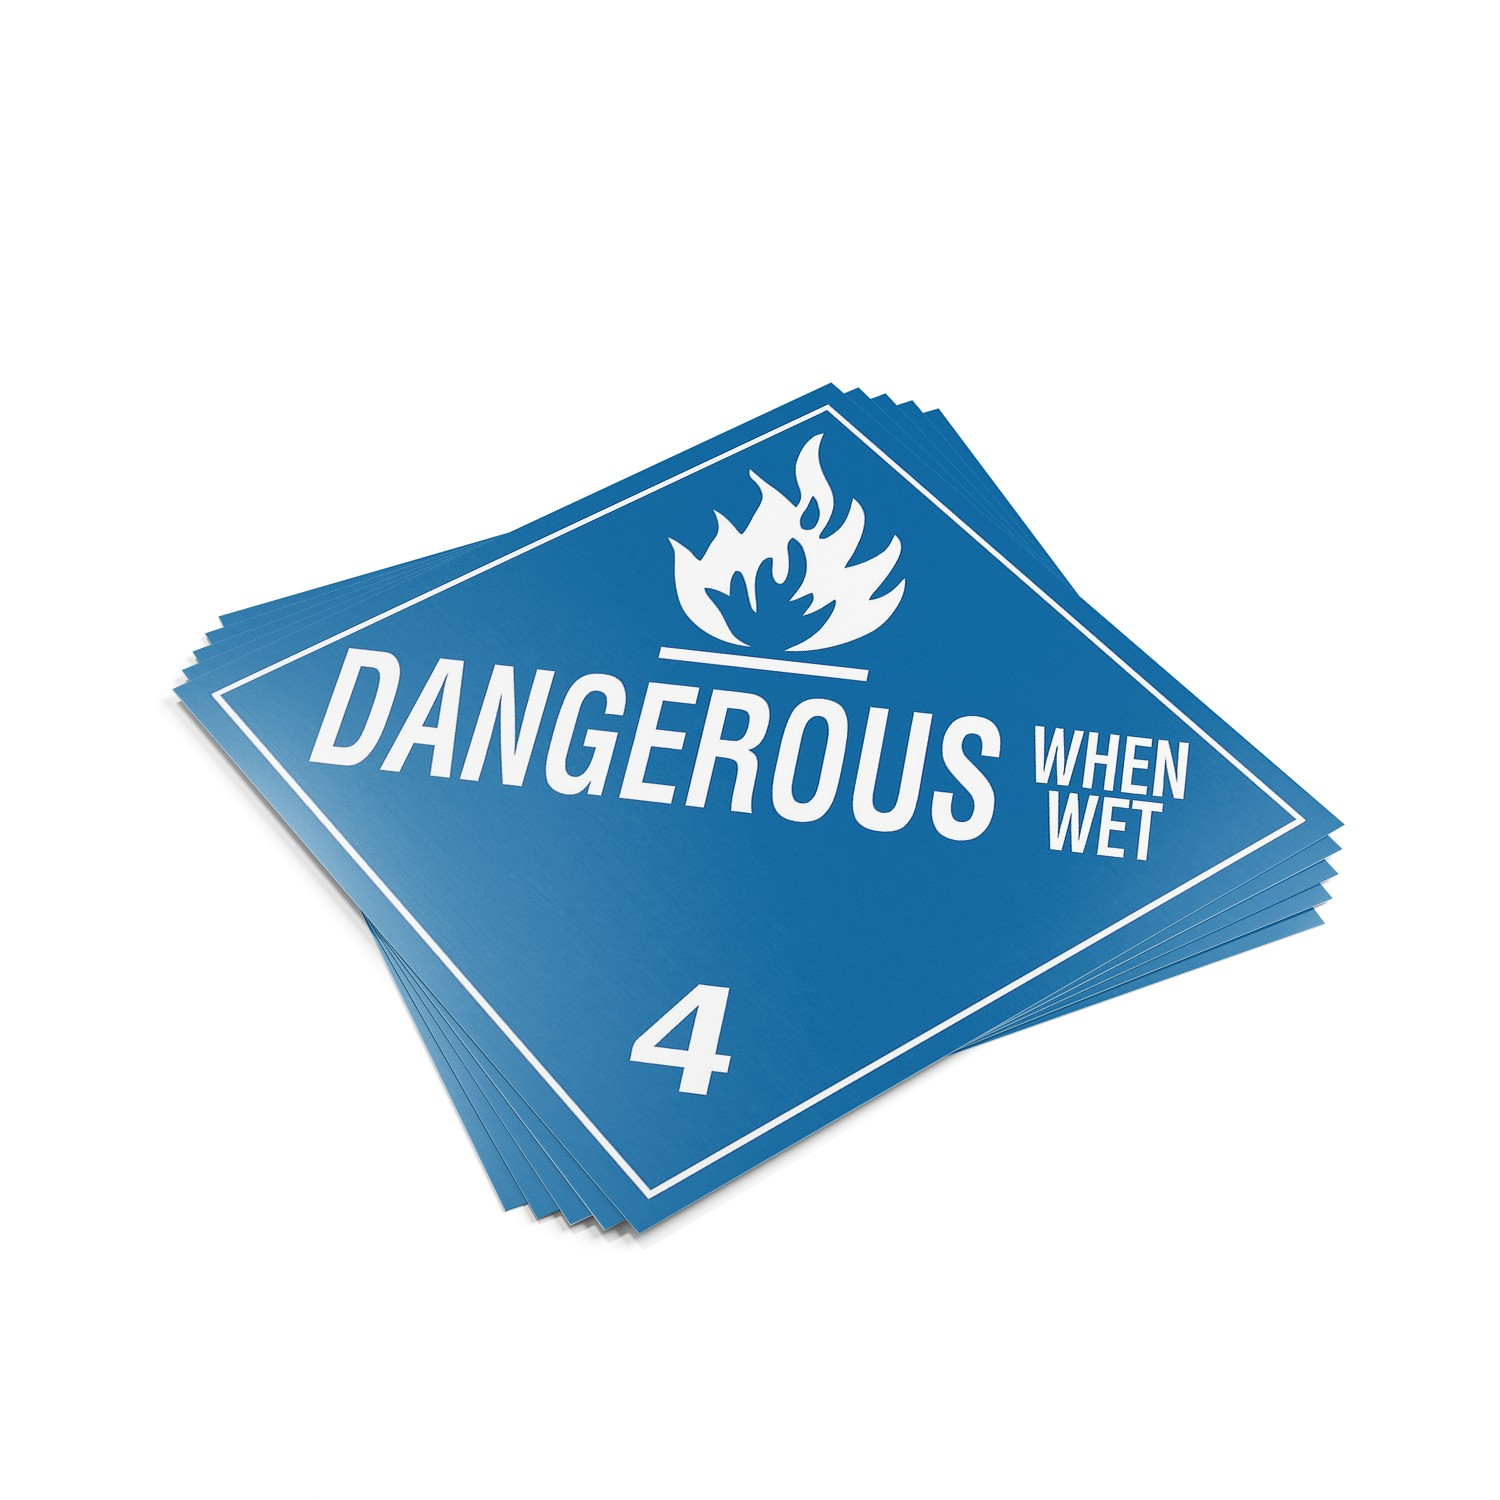Dangerous when wet: (174, 380, 1343, 1232)
